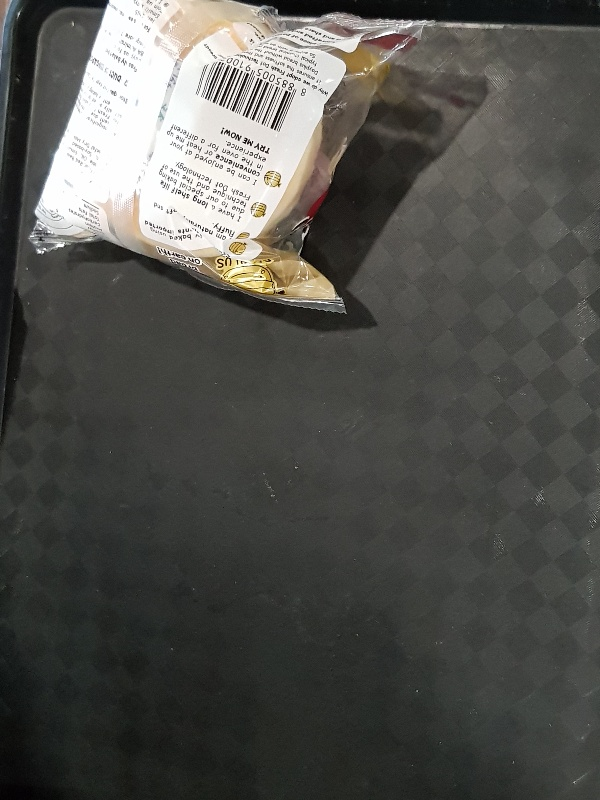Dayplus Red Bean: (30, 1, 426, 319)
